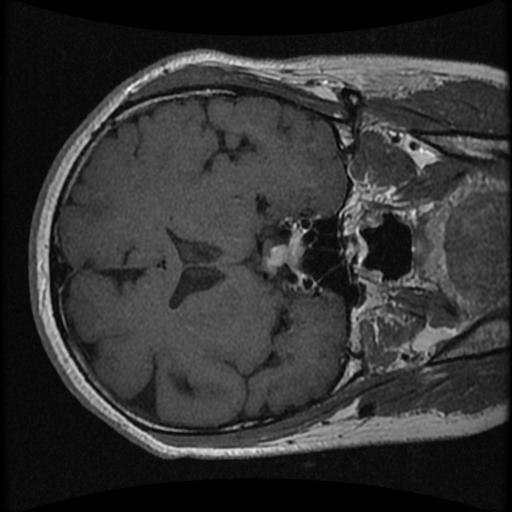pituitary tumour: (265, 225, 303, 275)
